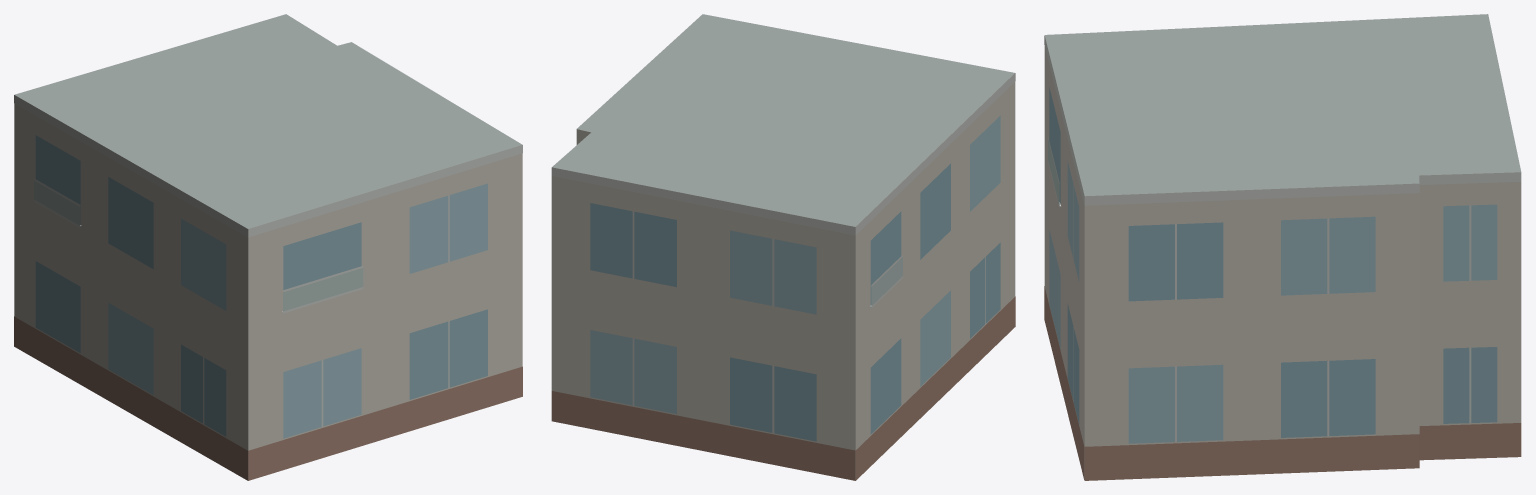
File: survey-upis-32637545.glb
3 renders of one model, left to right at view 1: azimuth 30°, elevation 25°; view 2: azimuth 150°, elevation 25°; view 3: azimuth 270°, elevation 25°, orthographic. The views are drawn at different scales.
Visible parts, largest first — view 1: survey-upis-32637545.tmp; view 2: survey-upis-32637545.tmp; view 3: survey-upis-32637545.tmp.
Boxes of the visible parts, bbox=[...] form: survey-upis-32637545.tmp: bbox=[14, 14, 522, 480]; survey-upis-32637545.tmp: bbox=[551, 14, 1015, 480]; survey-upis-32637545.tmp: bbox=[1044, 14, 1521, 480].
Bounding box in the file's own units: 10.03 × 7.3 × 11.09.
